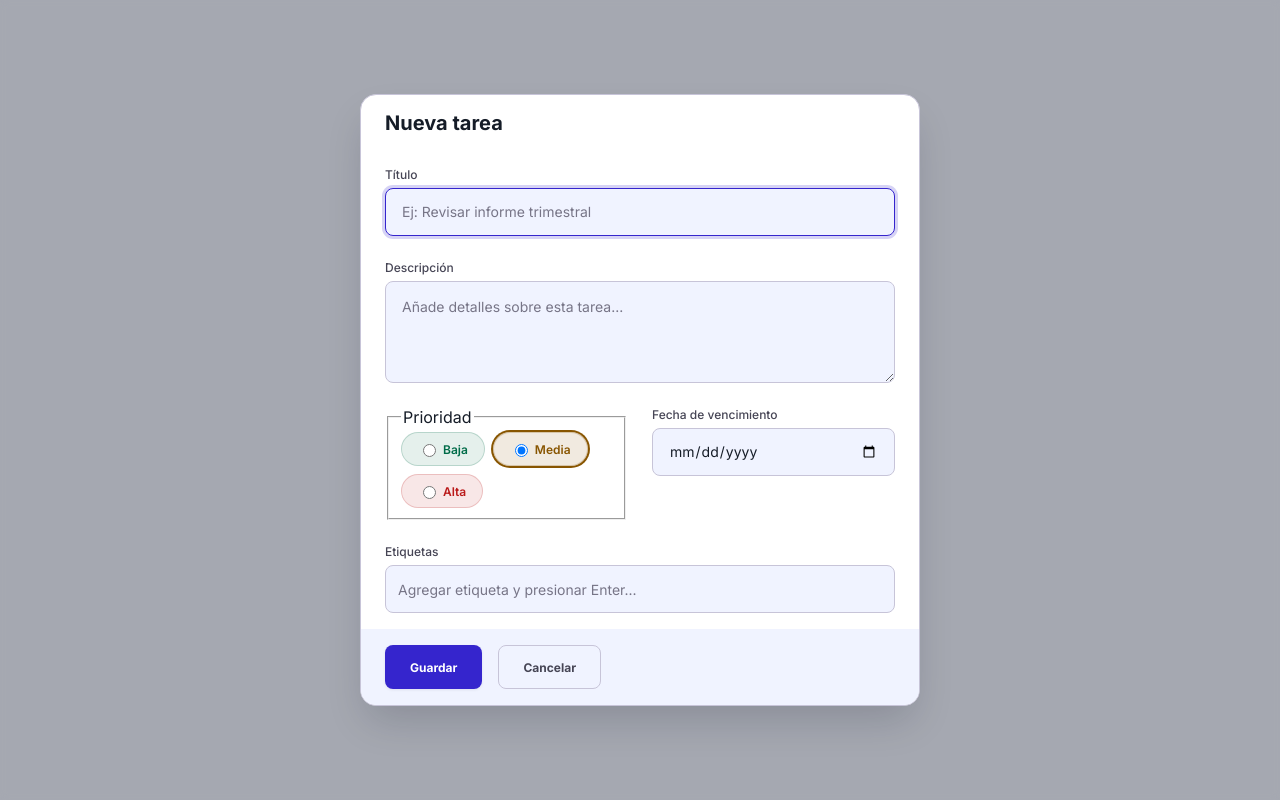
Test: un título demasiado corto no dispara la creación
The image size is (1280, 800).
Type "ab" into the field labelled "Título" at point(640, 212), box [385, 188, 895, 236]
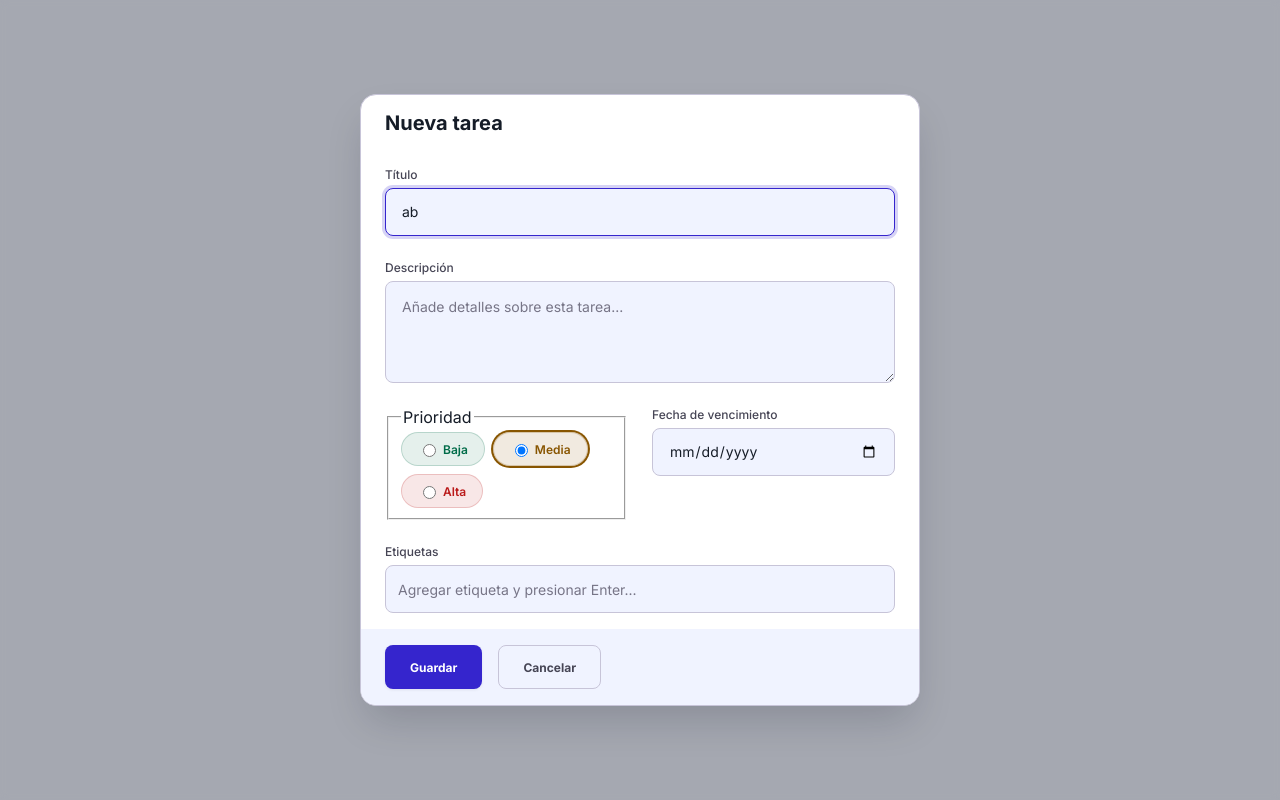
Click the button "Guardar" at point(434, 667), box [385, 645, 482, 689]
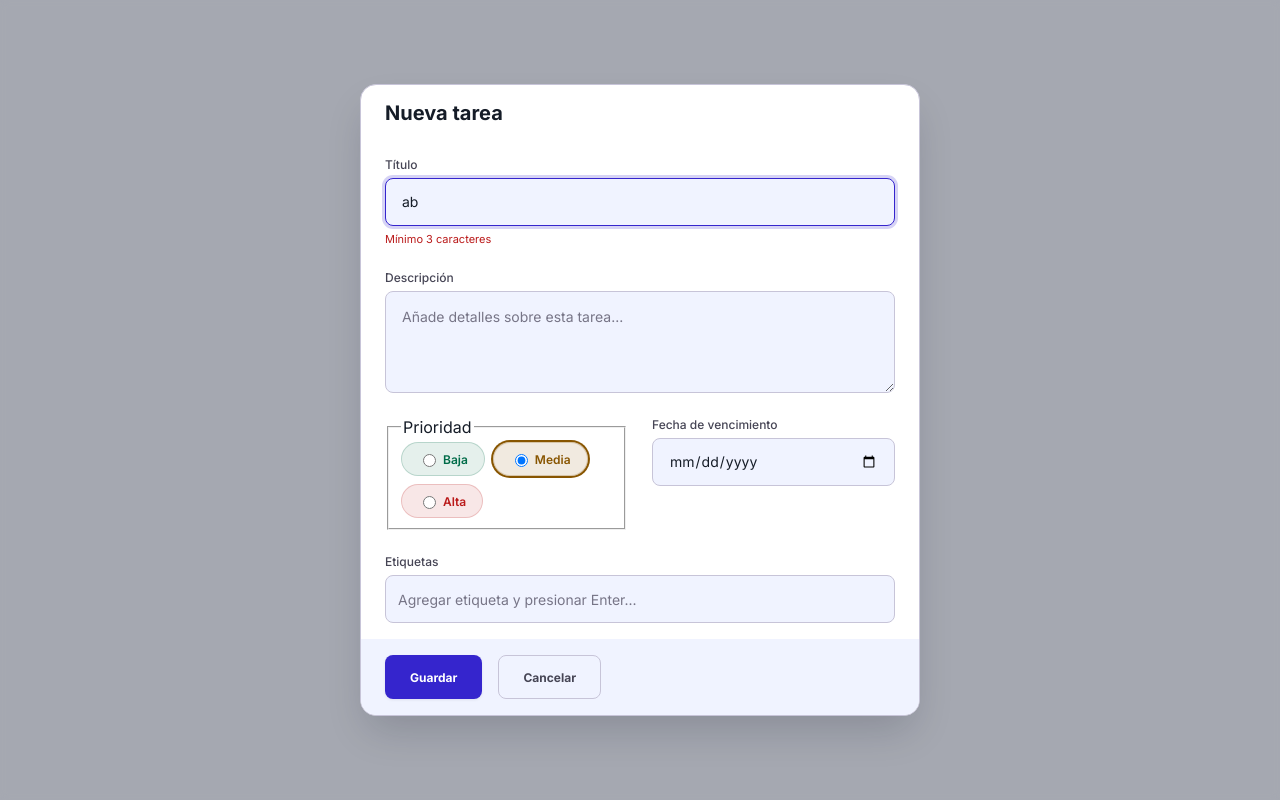
Result: the text "Mínimo 3 caracteres" is shown at [385, 232, 491, 246]
